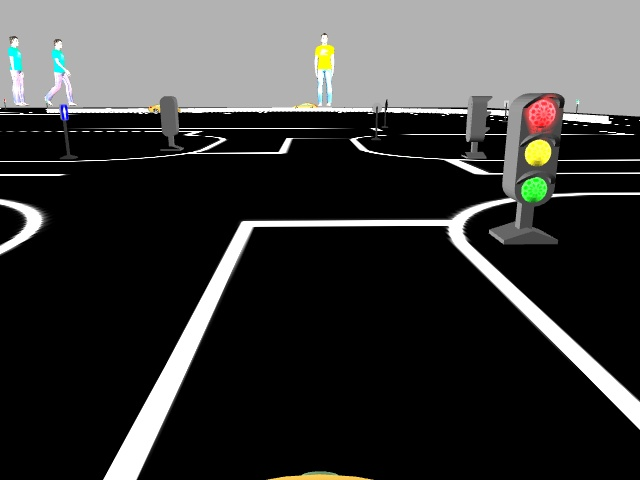TrafficLight: (505, 95, 566, 207)
